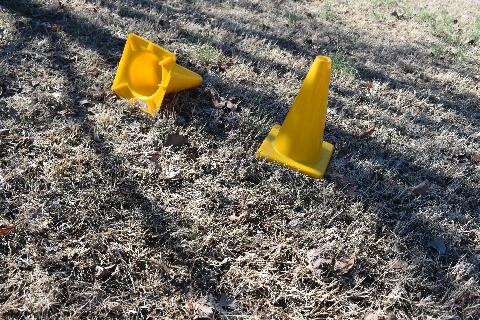cone: (255, 55, 335, 179), (110, 32, 202, 116)
